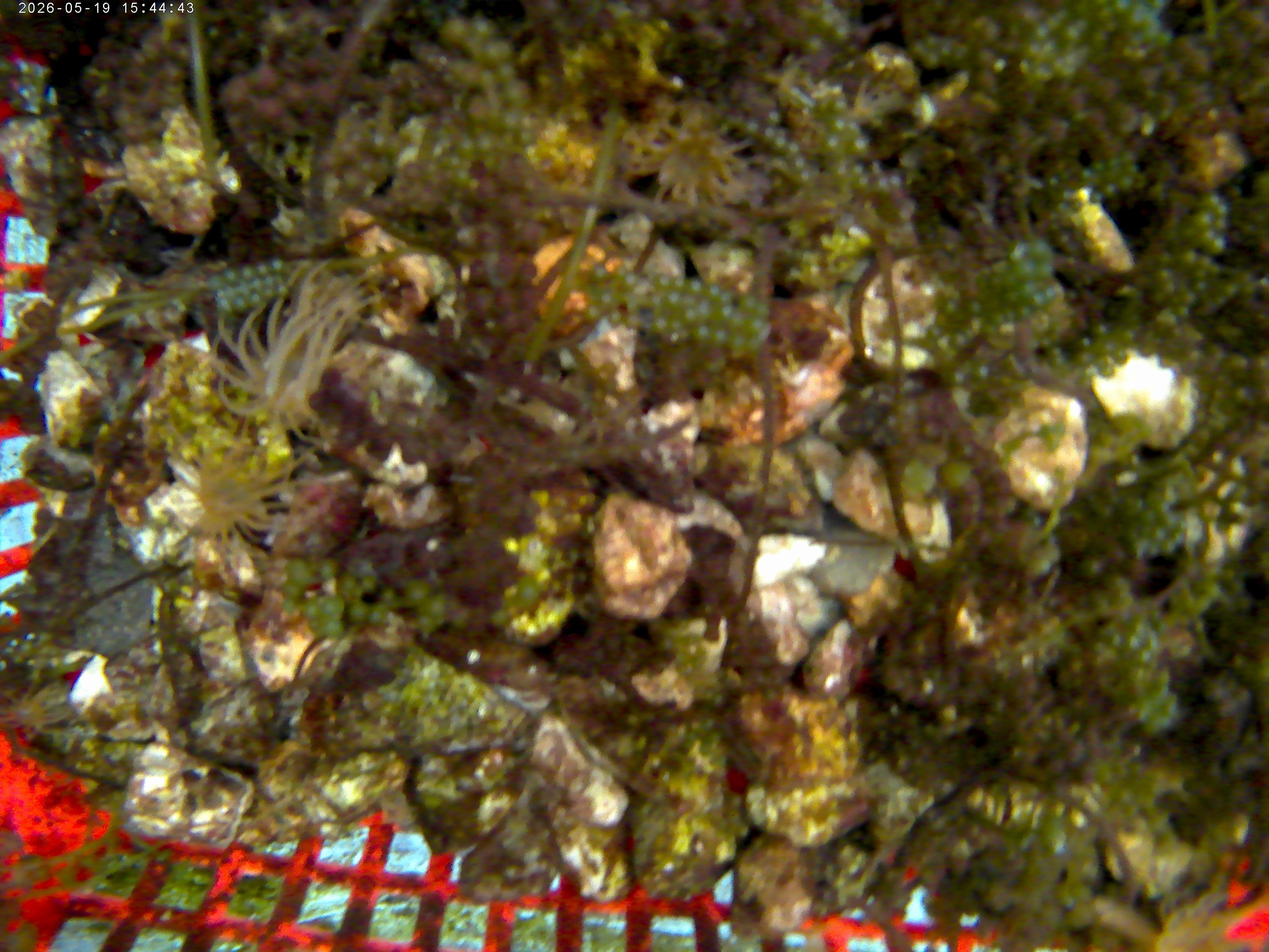Darkening: (456, 224, 479, 249), (57, 865, 78, 887), (481, 250, 502, 270), (922, 420, 941, 440), (481, 178, 499, 198), (667, 596, 685, 615), (230, 58, 249, 76), (1000, 496, 1018, 515), (34, 301, 52, 319), (635, 1, 653, 19), (755, 652, 773, 670), (1110, 547, 1128, 564), (22, 310, 39, 327), (34, 867, 50, 883), (405, 164, 421, 180), (572, 688, 588, 704), (874, 616, 890, 632), (641, 709, 657, 724), (1207, 108, 1223, 123), (982, 504, 997, 519), (578, 699, 593, 714), (462, 206, 477, 221), (452, 828, 467, 843), (58, 634, 73, 649), (736, 610, 750, 625), (862, 417, 876, 432), (442, 815, 456, 829), (479, 221, 493, 235), (0, 389, 12, 405), (592, 648, 605, 662), (524, 265, 537, 279), (737, 470, 750, 484), (394, 205, 407, 218), (596, 710, 609, 723), (624, 634, 637, 646), (491, 445, 503, 457)
Harvestable: (945, 460, 974, 490), (289, 558, 315, 587), (406, 580, 431, 606), (486, 39, 513, 63), (1070, 904, 1096, 928), (444, 18, 468, 43), (425, 595, 449, 619), (320, 617, 345, 640), (694, 300, 717, 323), (519, 581, 540, 604), (324, 596, 345, 618), (349, 601, 370, 623), (1030, 239, 1052, 260), (1016, 259, 1037, 280), (693, 323, 714, 344), (342, 169, 363, 190), (319, 558, 338, 580), (739, 293, 759, 313), (728, 332, 748, 352), (476, 134, 496, 154), (983, 21, 1002, 42), (1073, 884, 1093, 903), (302, 601, 322, 620), (711, 327, 730, 347), (952, 42, 971, 62), (456, 137, 476, 156), (665, 290, 684, 310), (491, 609, 510, 628), (1063, 24, 1082, 43), (930, 447, 949, 466), (497, 63, 516, 81), (283, 582, 302, 600), (1034, 65, 1053, 83), (1092, 30, 1110, 48), (687, 279, 705, 297), (729, 312, 747, 330), (418, 615, 436, 633), (1059, 890, 1076, 909), (1020, 281, 1038, 298), (923, 51, 940, 69), (717, 304, 734, 322), (1196, 211, 1213, 229), (683, 307, 700, 325), (1033, 24, 1050, 42), (978, 48, 995, 65), (454, 169, 471, 186), (1181, 250, 1198, 267), (600, 31, 616, 49), (1230, 355, 1248, 371), (1037, 261, 1053, 278), (483, 154, 499, 171), (519, 130, 536, 146), (1142, 508, 1159, 524), (1112, 348, 1128, 365), (1008, 22, 1024, 39), (1113, 0, 1132, 14), (1017, 304, 1033, 320), (208, 274, 224, 290), (993, 260, 1009, 275), (1118, 175, 1134, 190), (1032, 292, 1047, 308), (223, 269, 239, 284), (1153, 526, 1168, 542), (968, 300, 983, 316), (1121, 149, 1137, 164), (233, 296, 248, 311), (1098, 7, 1113, 22), (1004, 290, 1019, 305), (1075, 18, 1090, 33), (773, 135, 787, 150), (707, 285, 721, 300), (1105, 19, 1119, 33), (82, 855, 95, 870), (1092, 160, 1107, 173), (1019, 60, 1032, 75), (39, 631, 53, 644), (249, 293, 262, 307), (242, 266, 255, 280), (467, 178, 481, 191), (658, 274, 671, 288), (1215, 217, 1228, 231), (307, 618, 320, 631), (1177, 305, 1190, 318), (1125, 163, 1138, 176), (271, 259, 284, 272), (409, 200, 422, 213), (20, 642, 33, 655), (1108, 156, 1120, 169), (1195, 268, 1207, 280), (251, 279, 263, 291), (257, 264, 269, 276), (263, 288, 275, 299), (276, 285, 288, 296), (1094, 0, 1110, 7)
